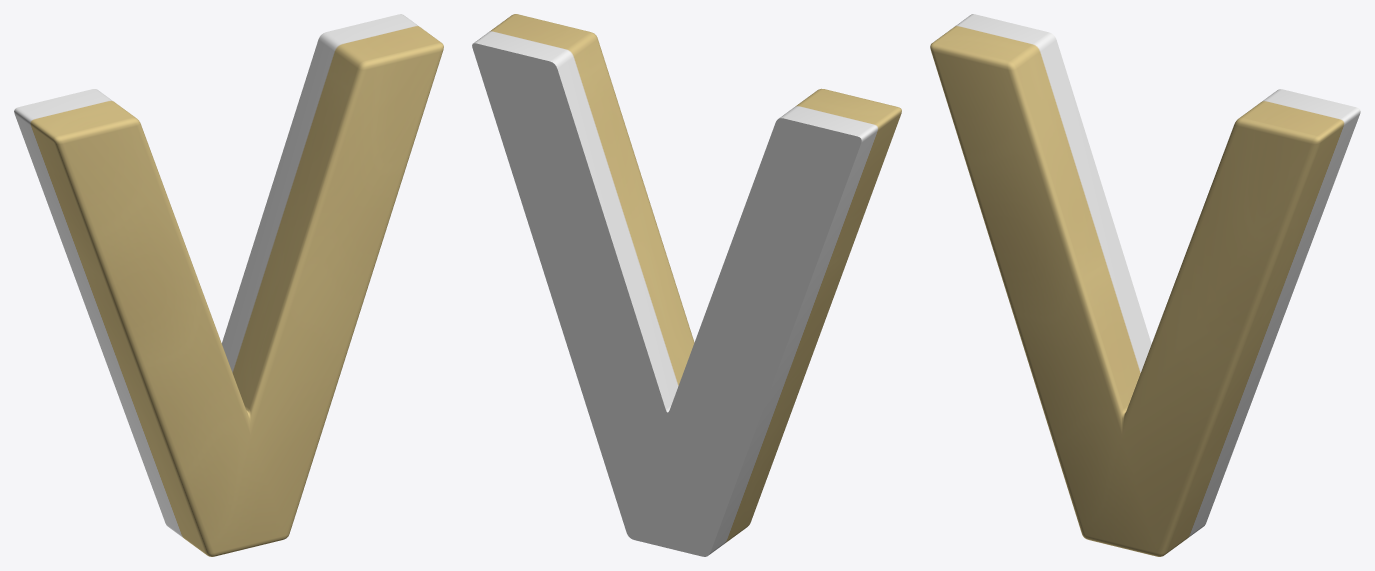
The model's file is LettersLightUp01_V.FBX.
3 views of the same model, side by side, from view 1: azimuth 30°, elevation 25°; view 2: azimuth 150°, elevation 25°; view 3: azimuth 330°, elevation 25° (orthographic).
Parts seen in each view (by area): view 1: LettersLightUp01_V; view 2: LettersLightUp01_V; view 3: LettersLightUp01_V.
Boxes of the visible parts, x1,y1,x2,y2 form: LettersLightUp01_V: (14, 14, 443, 556); LettersLightUp01_V: (472, 14, 901, 556); LettersLightUp01_V: (930, 14, 1360, 556).
Size of what is drawn, in the model's own units: 0.5343 by 0.6001 by 0.1012.
